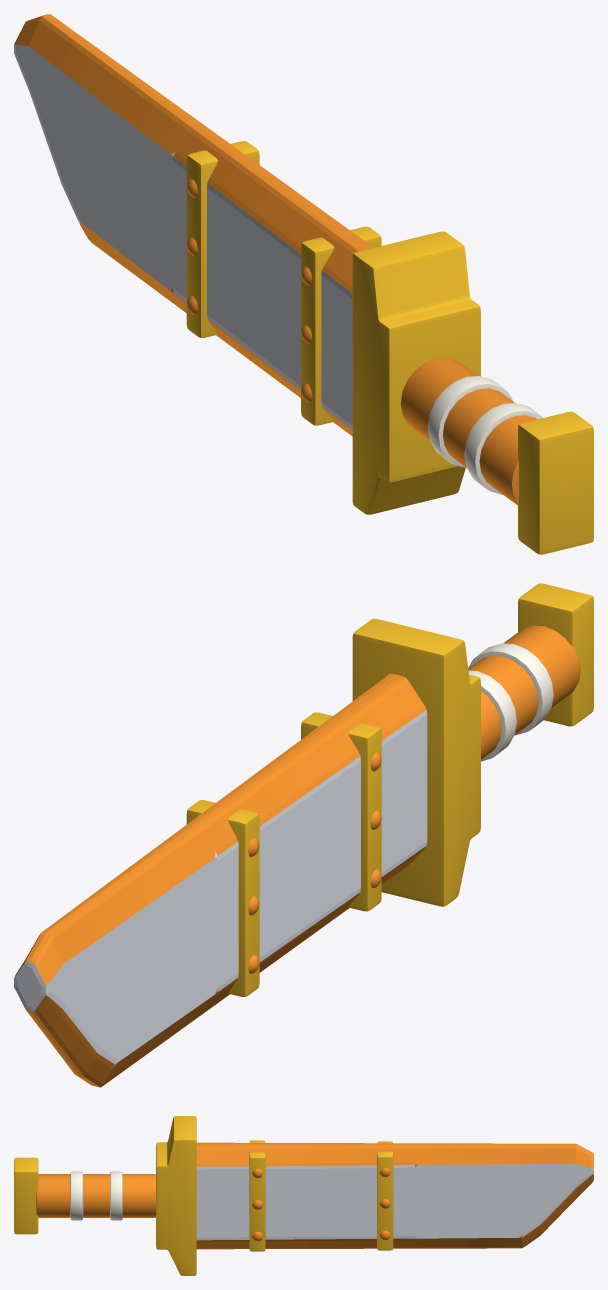
Rendered from Sword_TitanforgedGreatsword.glb.
3 renders of one model, top to bottom at view 1: azimuth 30°, elevation 25°; view 2: azimuth 150°, elevation 25°; view 3: azimuth 270°, elevation 25°, orthographic. The views are drawn at different scales.
Visible parts, largest first — view 1: Sword_TitanforgedGreatsword; view 2: Sword_TitanforgedGreatsword; view 3: Sword_TitanforgedGreatsword.
Part boxes in pixels (x1,y1,x2,y2): Sword_TitanforgedGreatsword: (14, 14, 593, 554); Sword_TitanforgedGreatsword: (14, 583, 593, 1087); Sword_TitanforgedGreatsword: (14, 1116, 593, 1275).
Bounding box in the file's own units: 0.1 × 0.26 × 1.
1 material, 1 textured.
